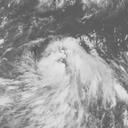cyclone: (20, 37, 105, 108)
